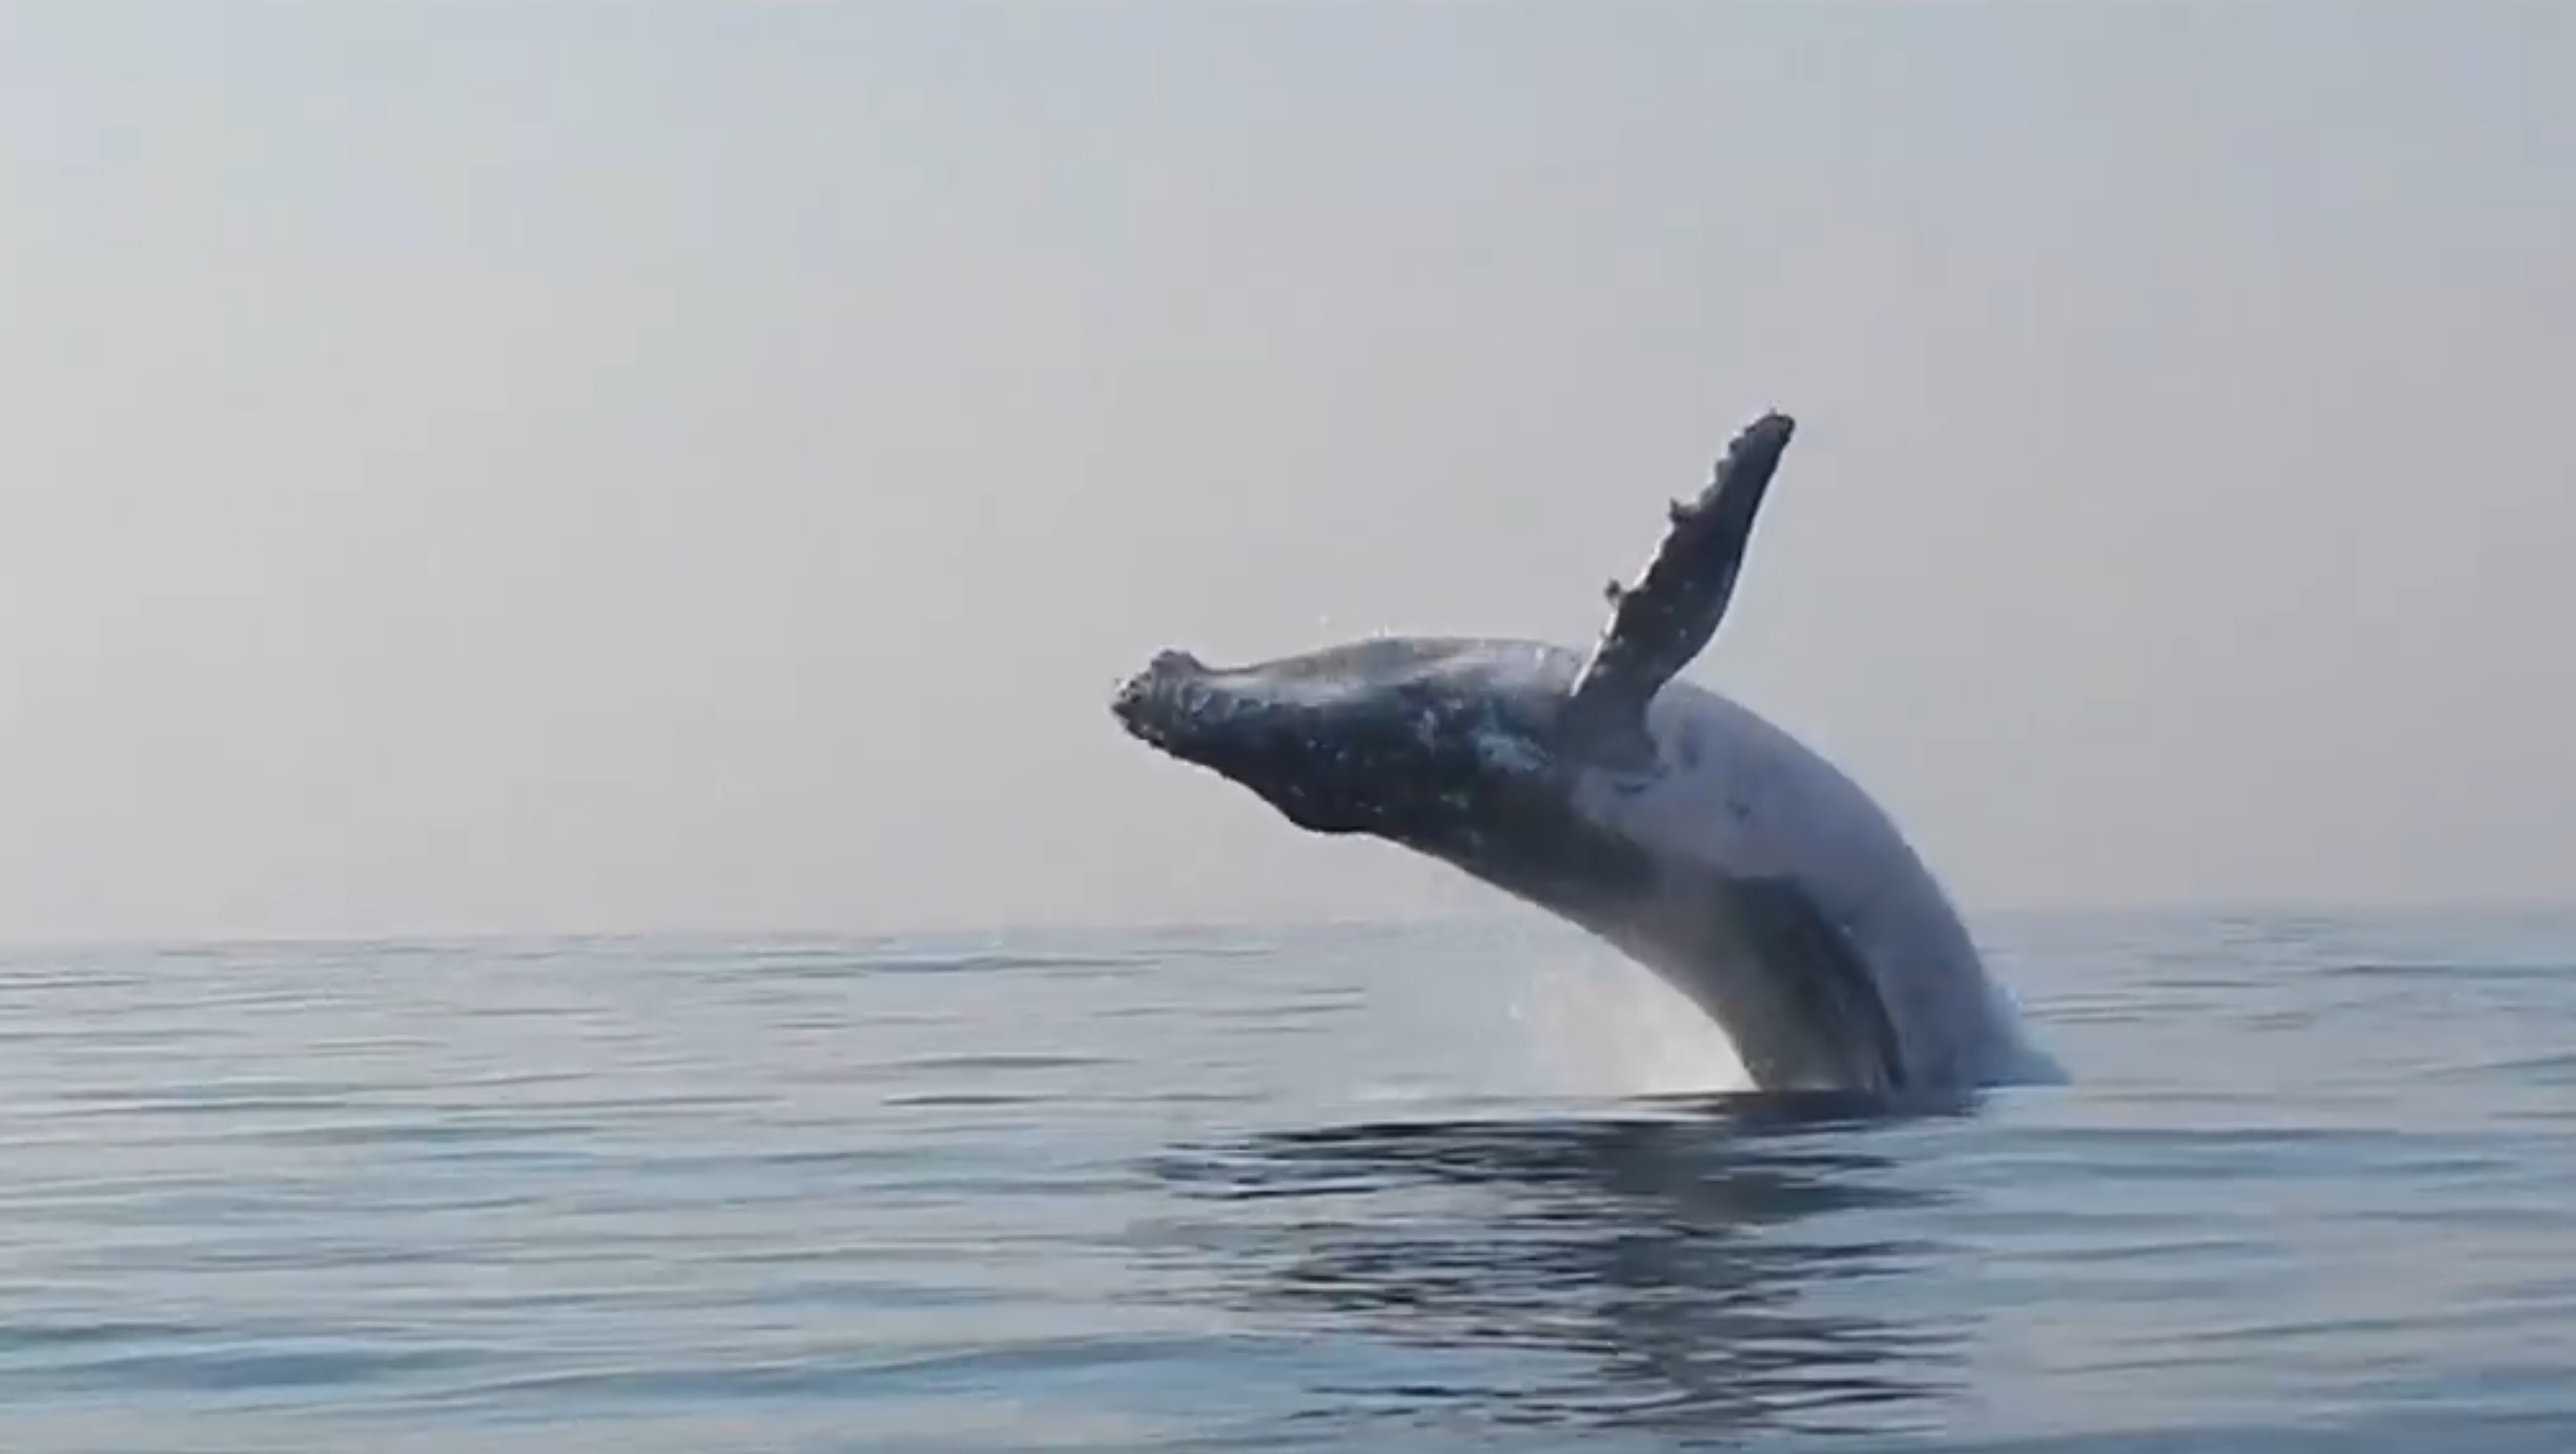humpback: (1104, 640, 2036, 1088)
